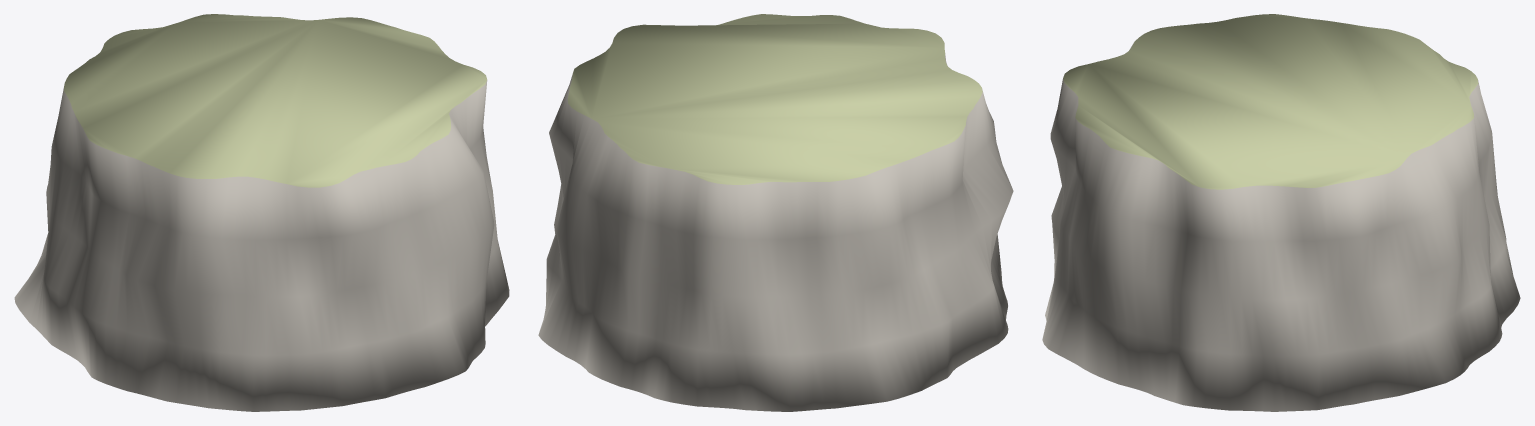
The model's file is cliff_1.glb.
3 renders of one model, left to right at view 1: azimuth 30°, elevation 25°; view 2: azimuth 150°, elevation 25°; view 3: azimuth 270°, elevation 25°, orthographic.
Visible parts, largest first — view 1: cliff_1; view 2: cliff_1; view 3: cliff_1.
Part boxes in pixels (x1,y1,x2,y2): cliff_1: [14, 14, 509, 411]; cliff_1: [538, 14, 1013, 411]; cliff_1: [1042, 14, 1520, 411].
Size of the model in its own units: 13.8 by 7.29 by 14.22.
